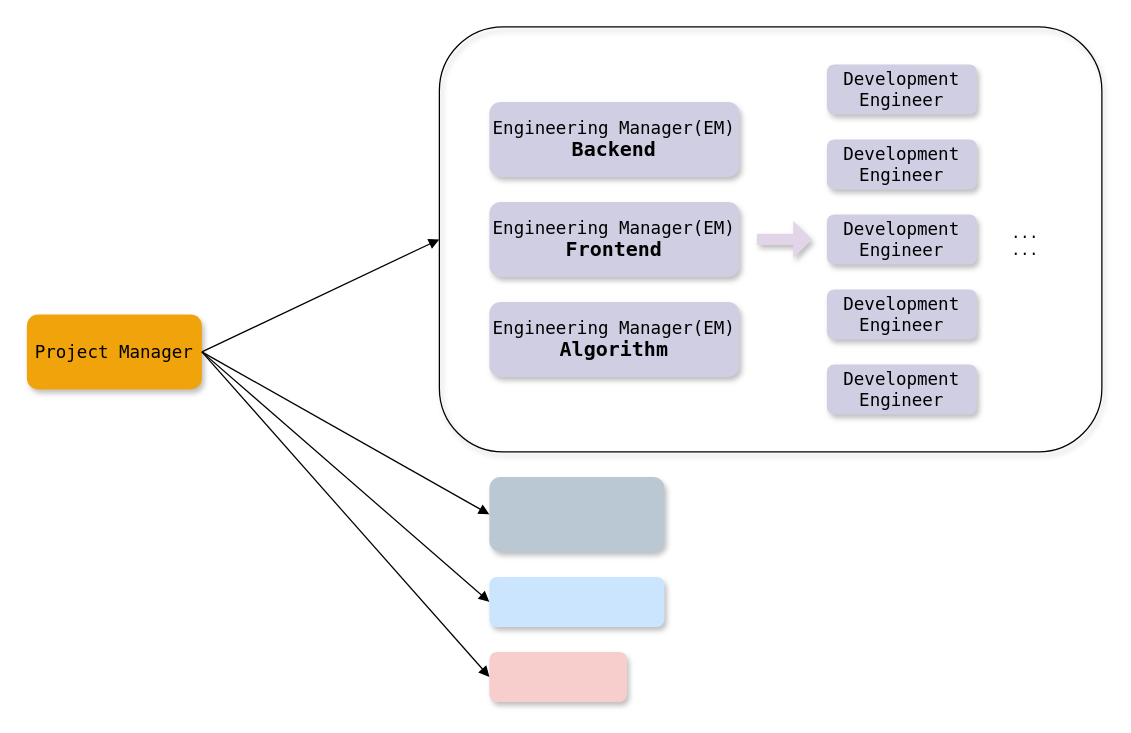
The diagram is 1131 pixels wide and 733 high, and some of its shapes have lost their labels. Each missing label, with the centre of its shape:
Designer Manager: (577,603)
Product Manager(PM): (577,515)
Test Manager: (559,678)
